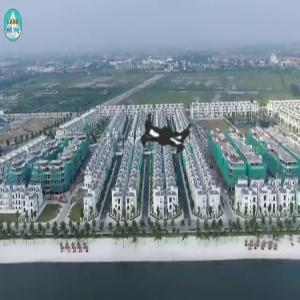drone: (92, 62, 249, 219)
